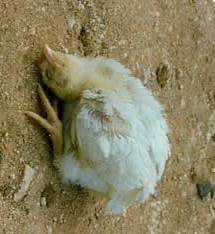Unhealthy: (23, 39, 172, 217)
